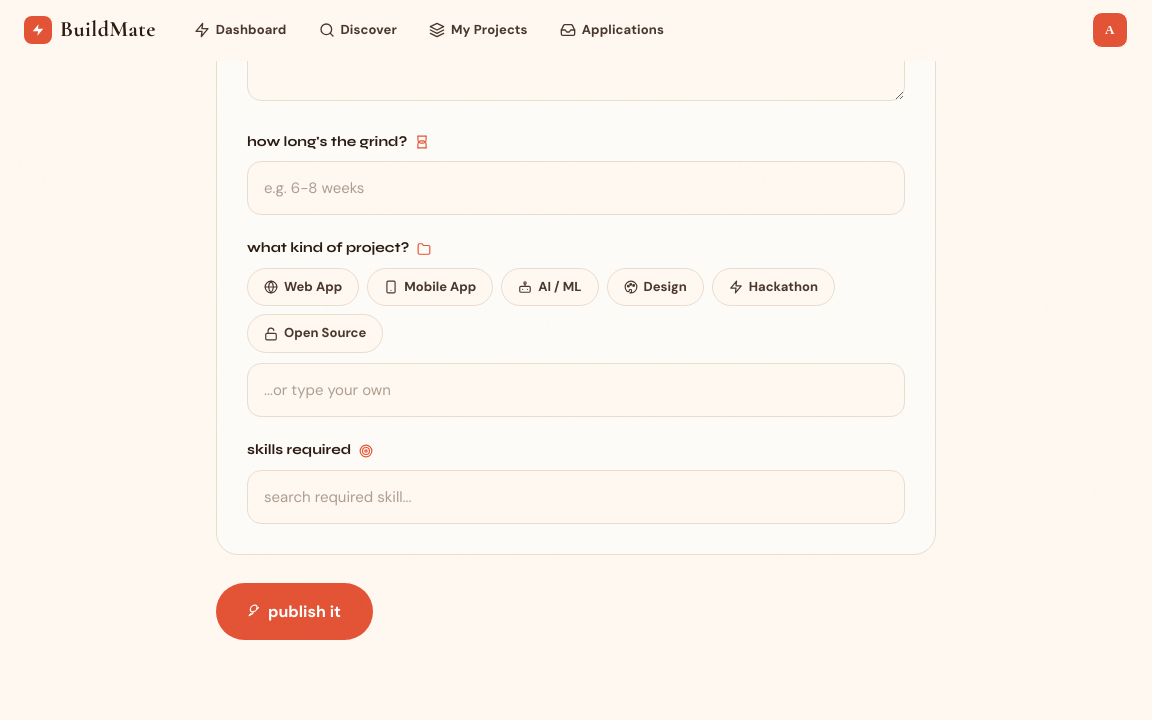
CreateProject - Creation Mode › shows 'No matching skills found' if skill query has no matches
(page scrolled)
Step 1. Type "unknownskill" into the field with placeholder "search required skill..." → (576, 497), box x1=247 y1=470 x2=905 y2=524
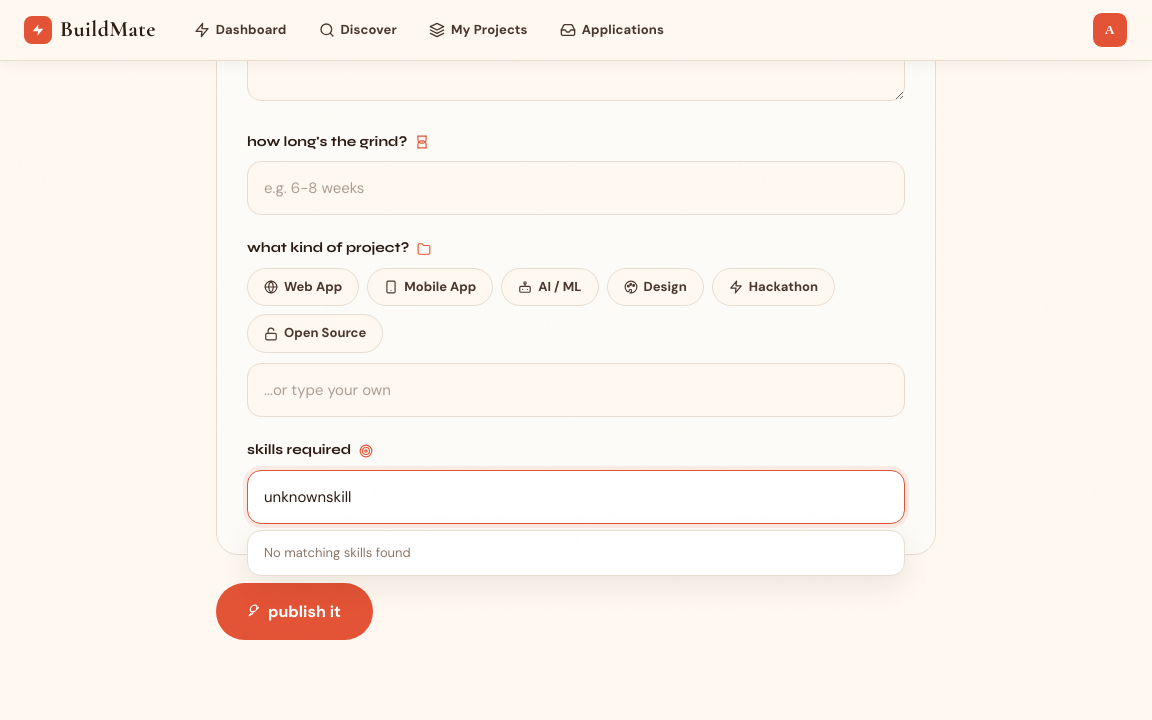
Now the text "No matching skills found" is shown, box x1=264 y1=544 x2=411 y2=561
